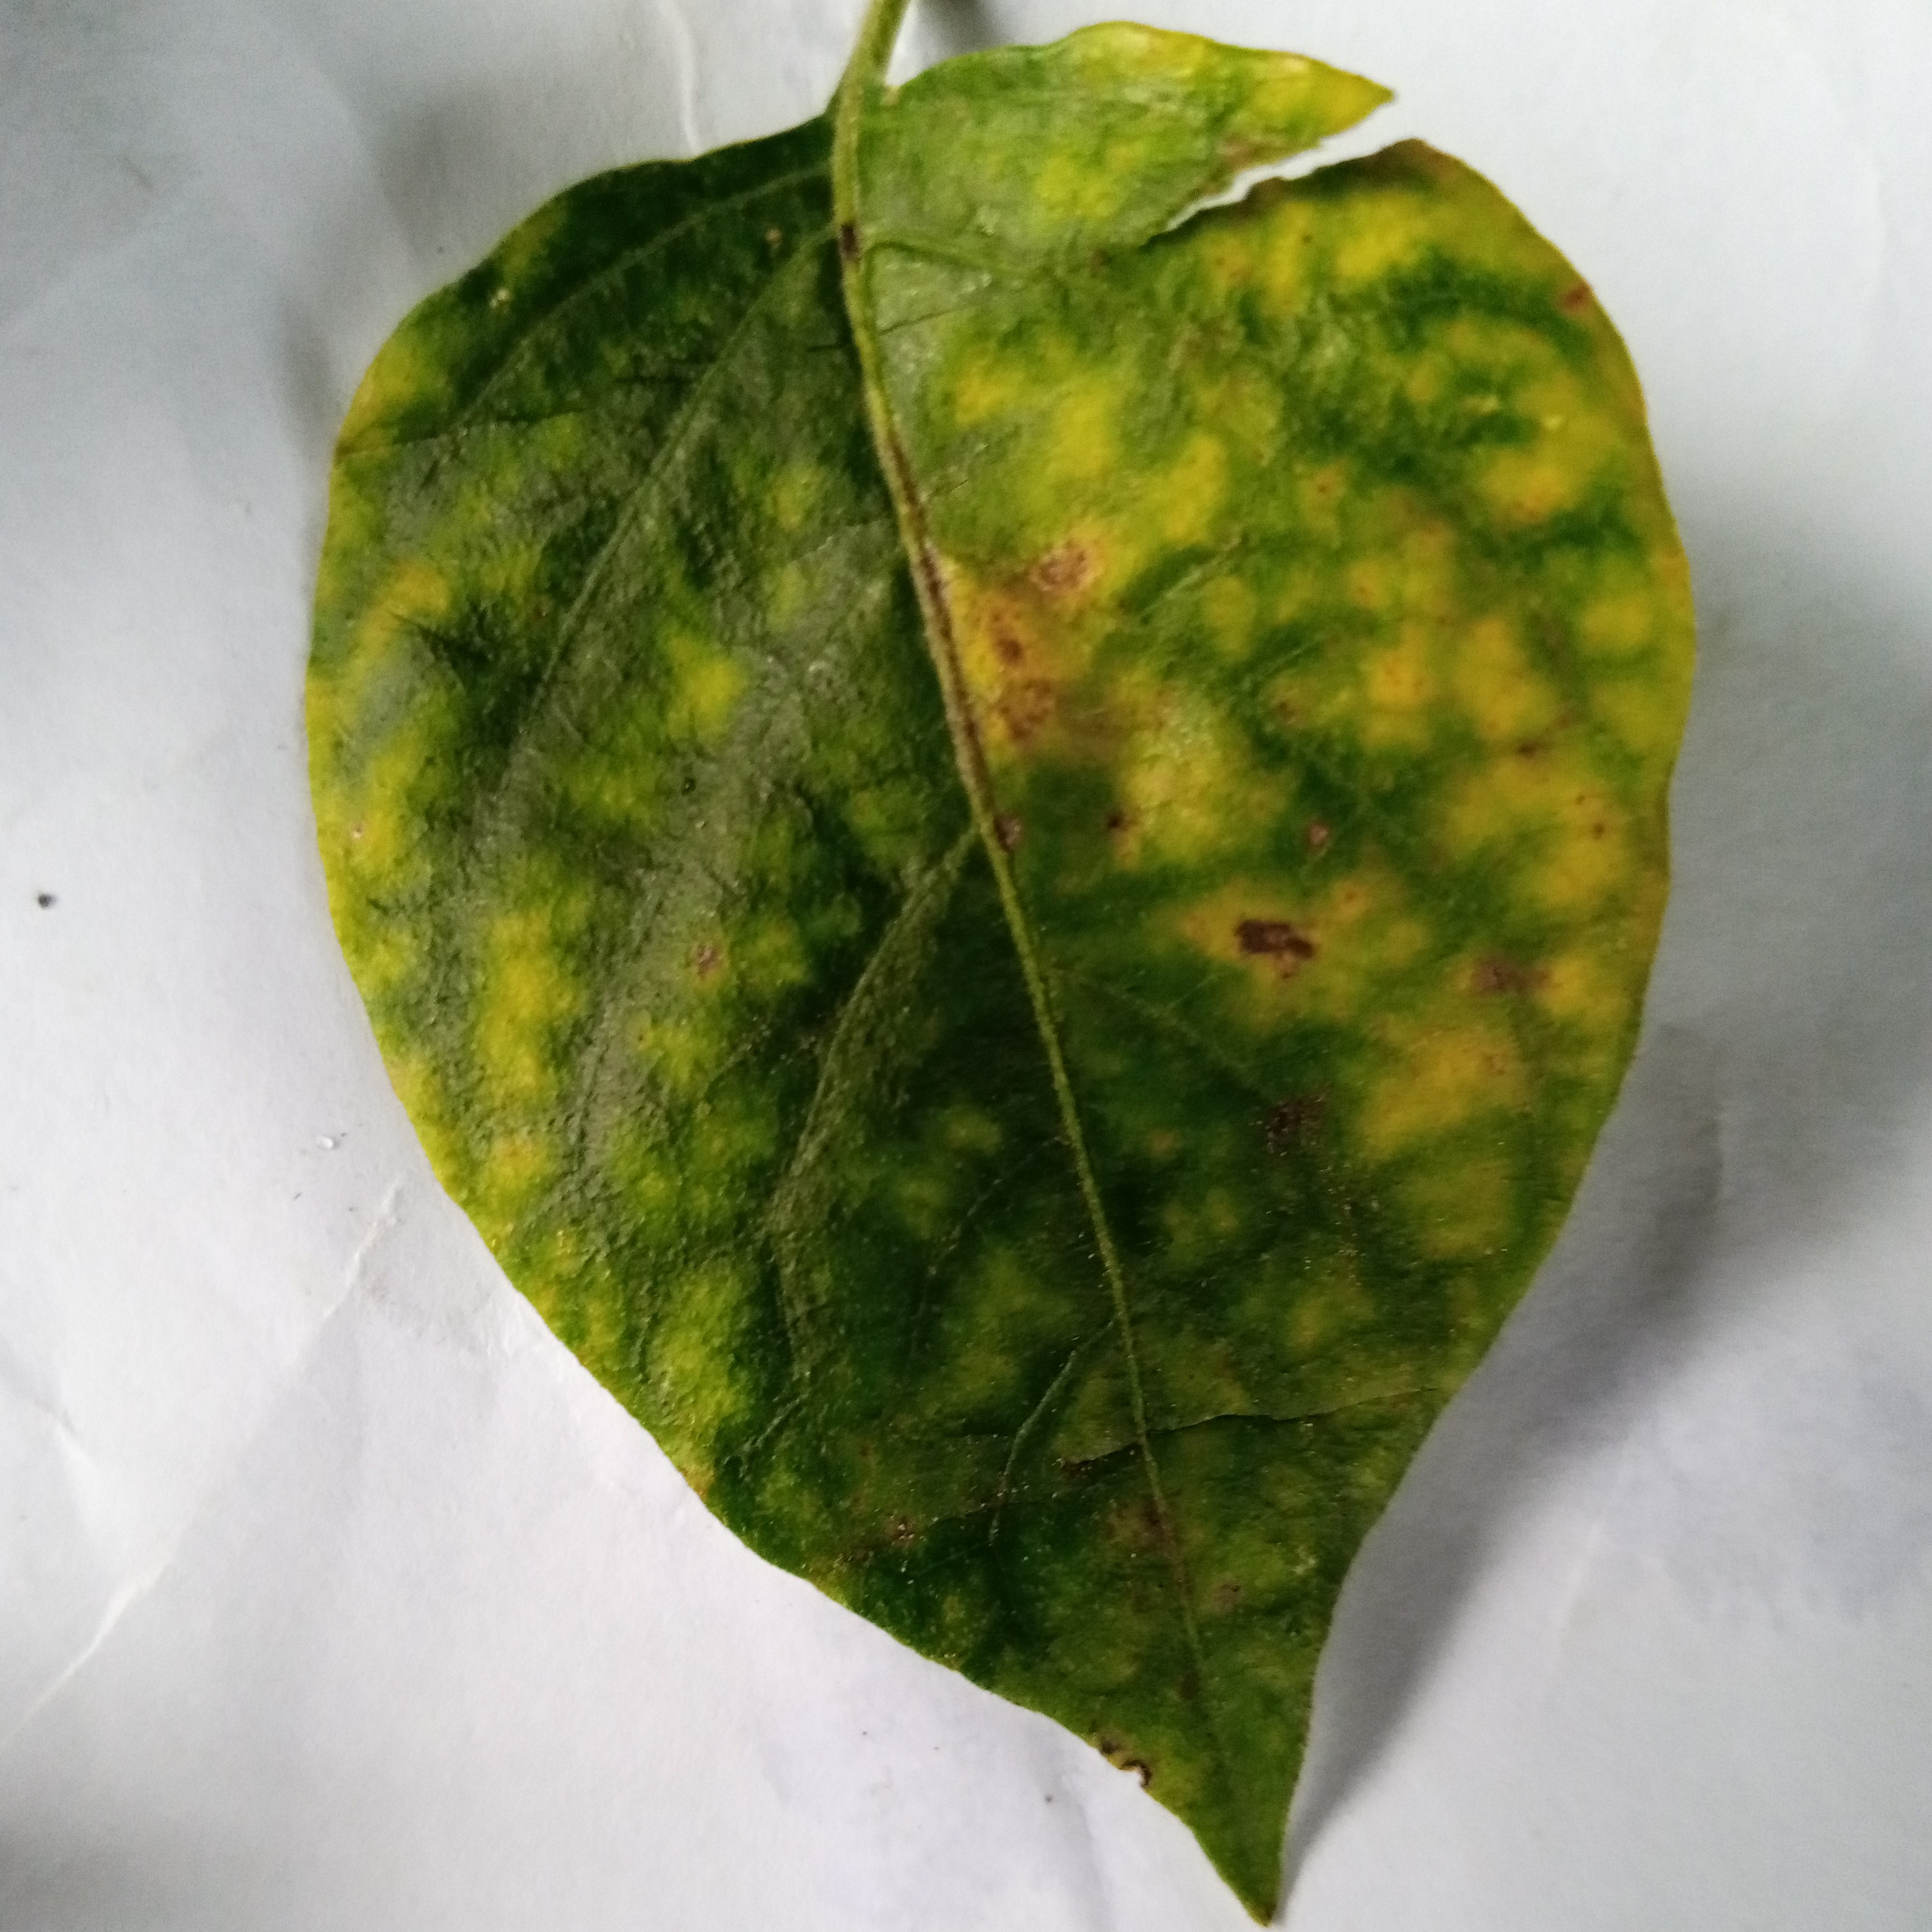Leaf: (110, 30, 1822, 1932)
